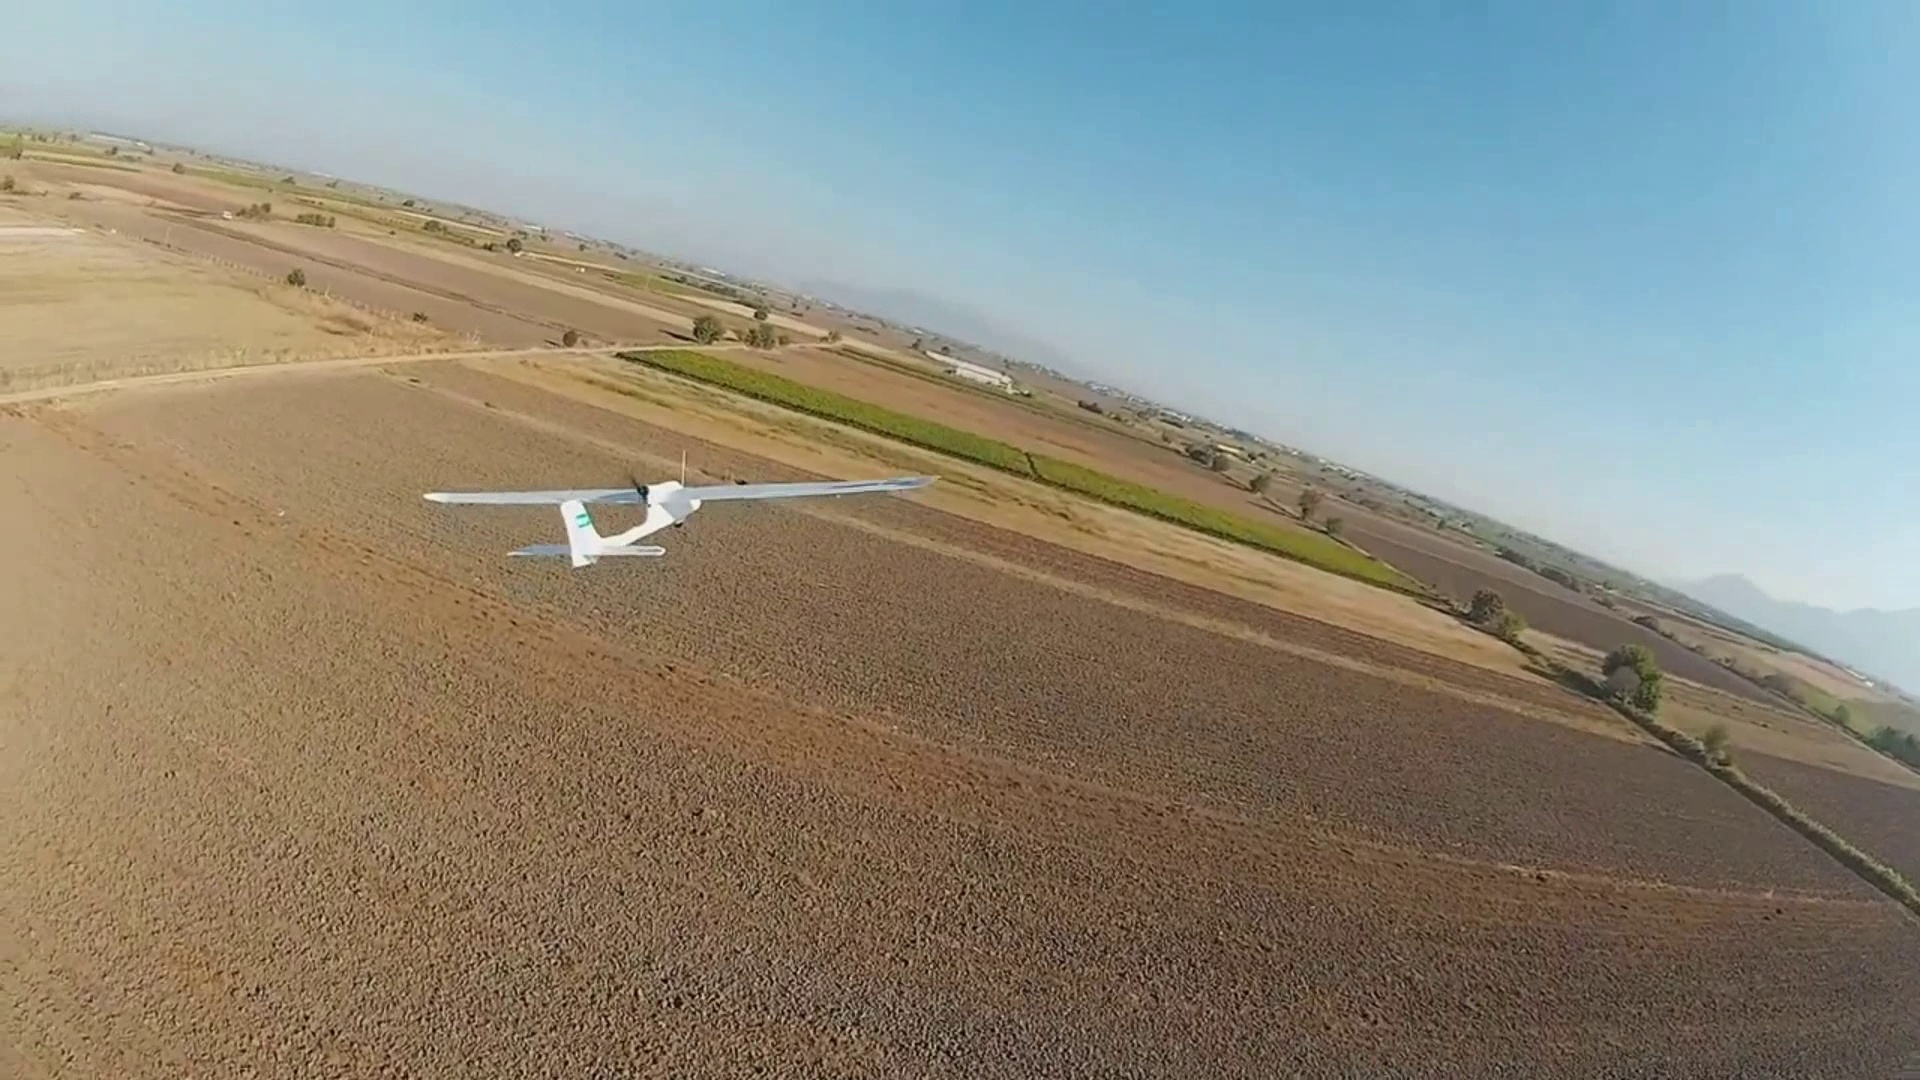airplane: (419, 473, 928, 568)
